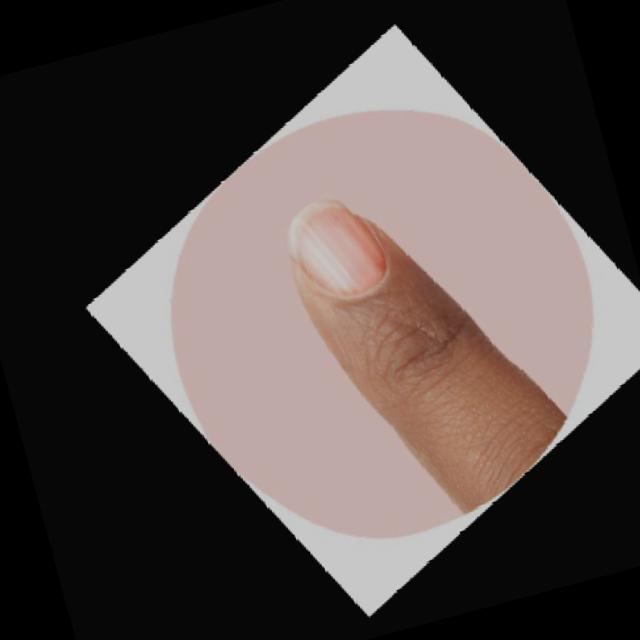Nail: (286, 198, 384, 296)
